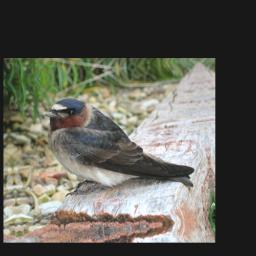Swallow: (38, 80, 199, 207)
